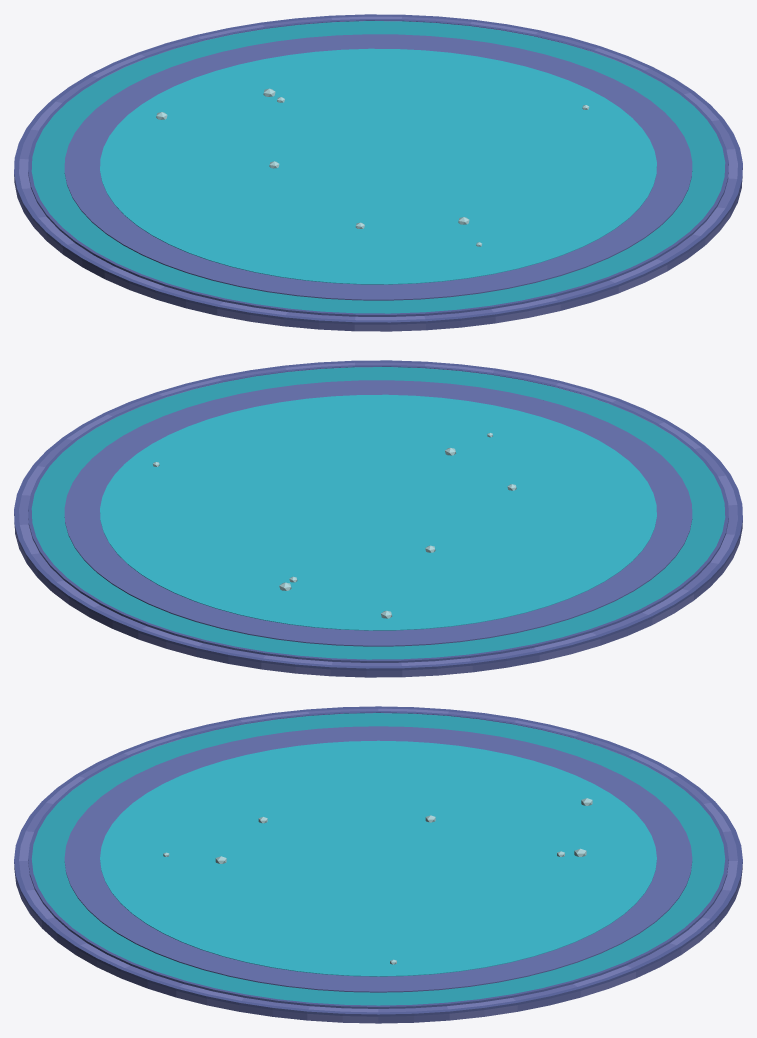
File: goo_jar_foot@space.fbx
3 renders of one model, top to bottom at view 1: azimuth 30°, elevation 25°; view 2: azimuth 150°, elevation 25°; view 3: azimuth 270°, elevation 25°, orthographic.
Visible parts, largest first — view 1: goo_jar_foot; view 2: goo_jar_foot; view 3: goo_jar_foot.
Part boxes in pixels (<box>): goo_jar_foot: <box>14,14,742,331</box>; goo_jar_foot: <box>14,360,742,677</box>; goo_jar_foot: <box>14,706,742,1023</box>.
Size of the model in its own units: 80.1 by 2.08 by 80.1.
